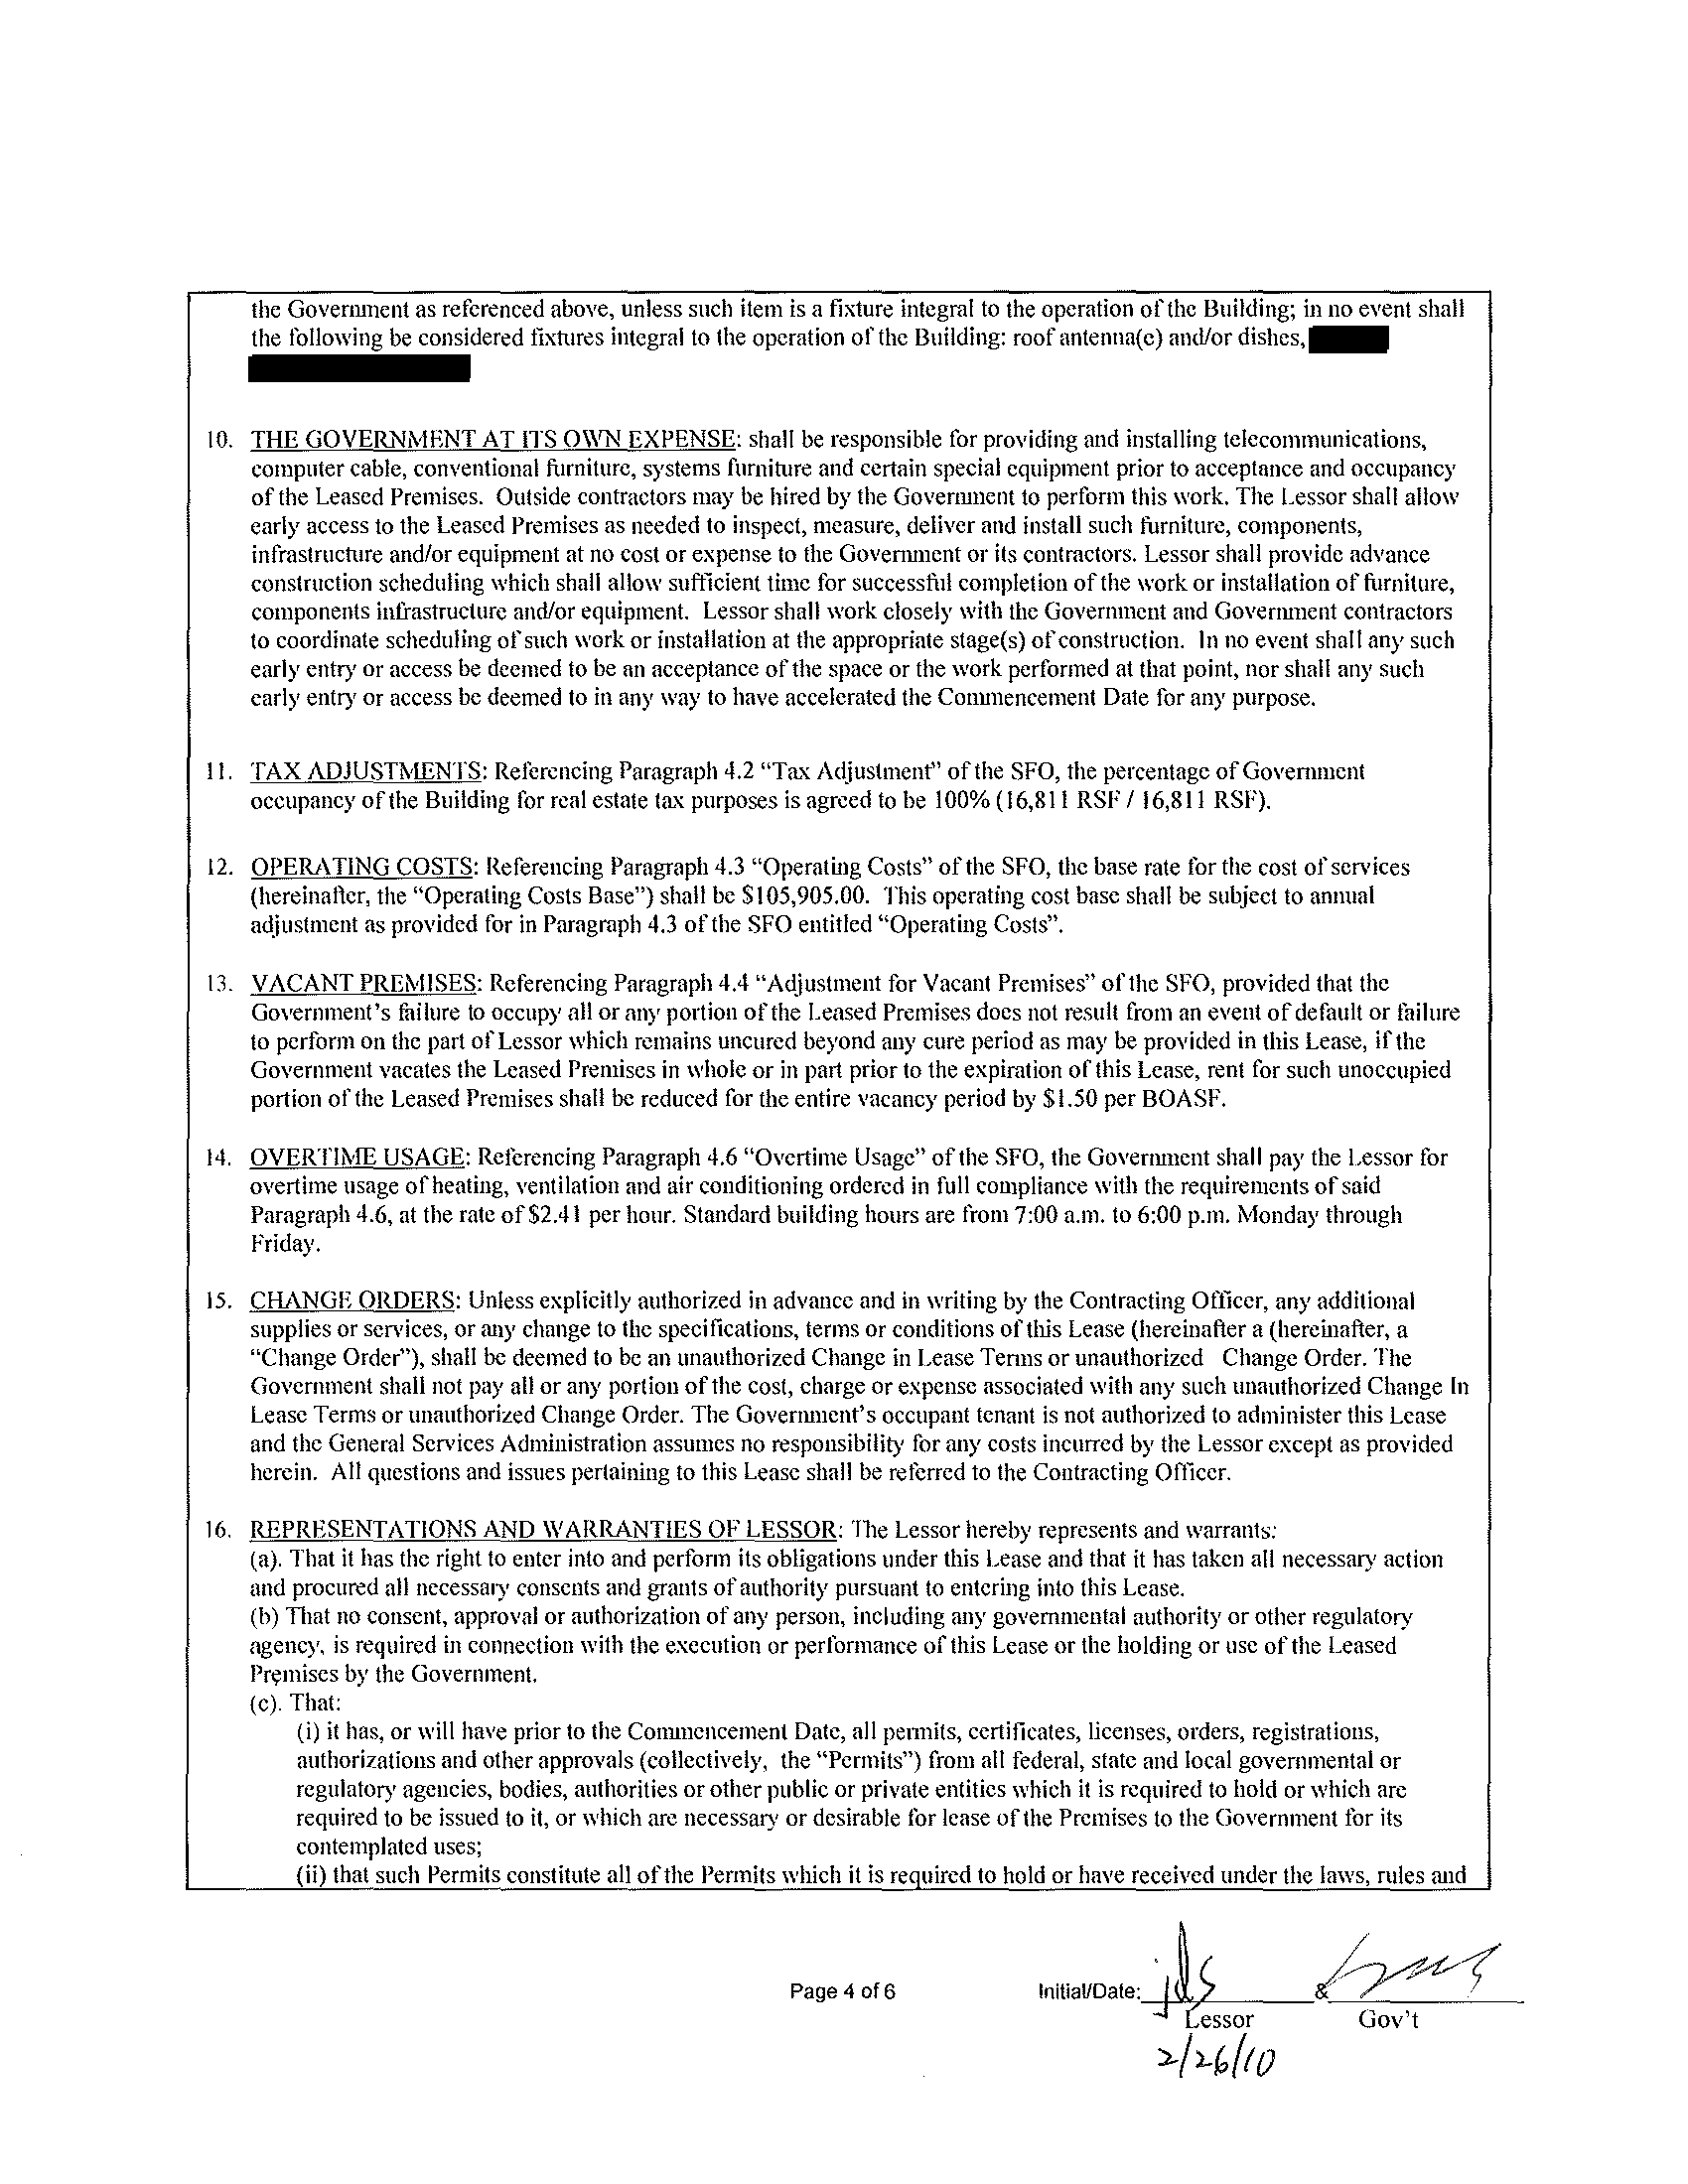handwritten: (1300, 1916, 1530, 2012), (1147, 1909, 1248, 2016), (1133, 2039, 1309, 2099)
